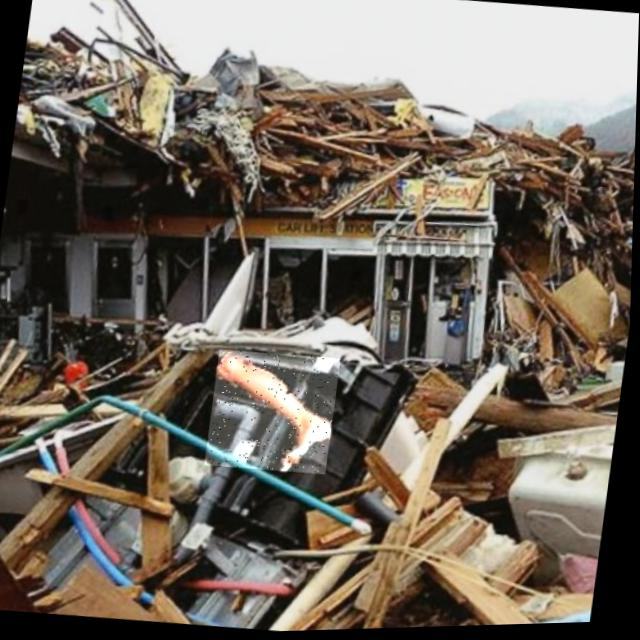Person in Rubble: (207, 348, 343, 479)
